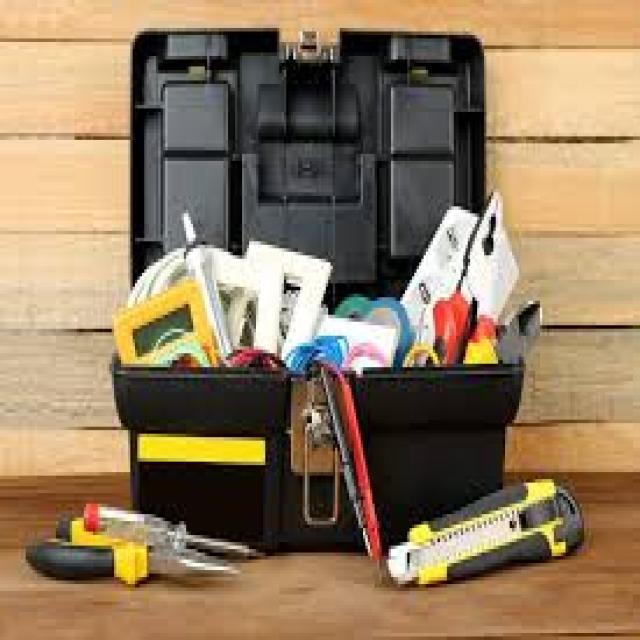tool_box: (109, 28, 542, 570)
